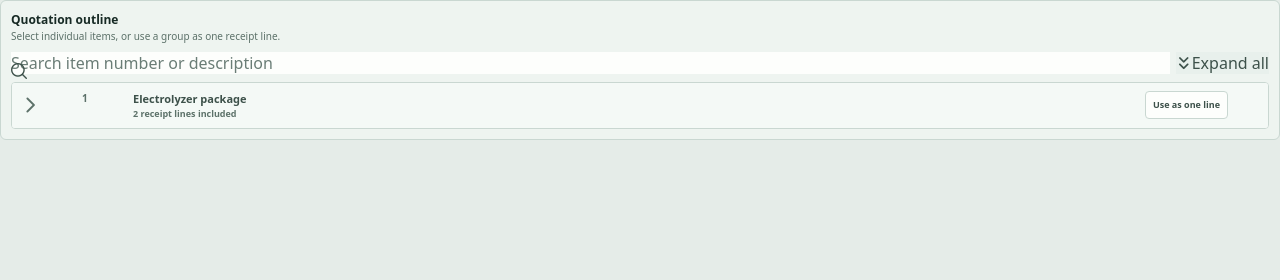
Test: GoodsReceiptNavigator › starts collapsed and reports selected descendants without a group checkbox
The width and height of the screenshot is (1280, 280).
Expected: the number of list items with class "goods-receipt-outline-row" is 1, [12,82,1268,128]
Click the button with class "goods-receipt-outline-toggle": point(30, 105) [18,93,42,117]
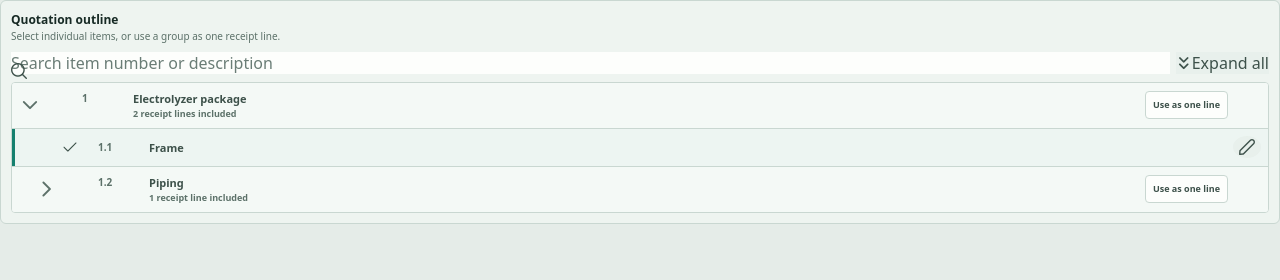
Expected: the number of list items with class "goods-receipt-outline-row" is 3, [12,82,1268,128]; [12,128,1268,166]; [12,166,1268,212]
Expected: the text "1.1" is shown, [98,140,112,154]
Expected: the text "1.2" is shown, [98,174,112,188]
Click the 2nd button with class "goods-receipt-outline-toggle": point(46, 189) [34,177,58,201]
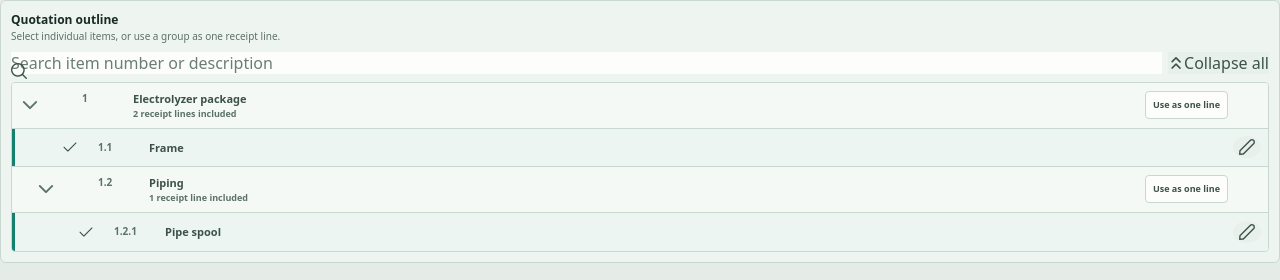
Expected: the number of list items with class "goods-receipt-outline-row" is 4, [12,82,1268,128]; [12,128,1268,166]; [12,166,1268,212]; [12,212,1268,250]
Expected: the text "1.2.1" is shown, [114,224,137,238]
